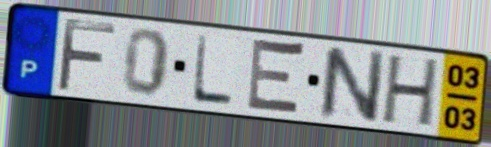0: (122, 25, 173, 101)
E: (243, 34, 309, 120)
F: (53, 15, 119, 95)
H: (378, 53, 443, 131)
L: (188, 32, 237, 109)
N: (317, 44, 388, 126)
